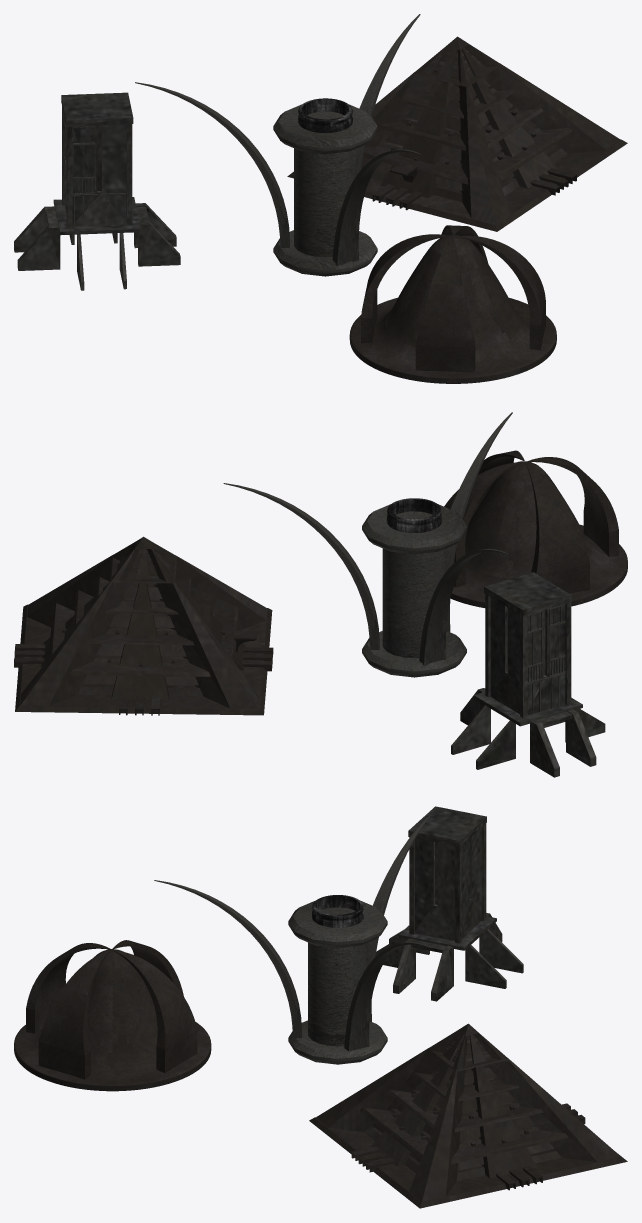
The picture shows the model from 3 angles, top to bottom: view 1: azimuth 30°, elevation 25°; view 2: azimuth 150°, elevation 25°; view 3: azimuth 270°, elevation 25°; orthographic projection. The views are drawn at different scales.
Visible parts, largest first — view 1: tmiotacza, Cylinder001, portal1, Box35, Loft001; view 2: tmiotacza, Cylinder001, Box35, portal1, Loft001; view 3: tmiotacza, Cylinder001, Box35, portal1, Loft001.
Boxes of the visible parts, <box> form: tmiotacza: <box>287,36,627,231</box>; Cylinder001: <box>349,225,556,383</box>; portal1: <box>135,14,421,276</box>; Box35: <box>14,92,180,290</box>; Loft001: <box>298,98,352,132</box>; tmiotacza: <box>14,536,273,715</box>; Cylinder001: <box>444,450,627,607</box>; Box35: <box>451,572,605,777</box>; portal1: <box>223,412,512,677</box>; Loft001: <box>386,498,441,532</box>; tmiotacza: <box>309,1023,627,1208</box>; Cylinder001: <box>14,940,211,1091</box>; Box35: <box>375,806,523,1001</box>; portal1: <box>154,814,431,1064</box>; Loft001: <box>312,895,363,927</box>.
Bounding box in the file's own units: 27.01 × 7.69 × 25.57.
Materials: 3 (3 with a texture image).
